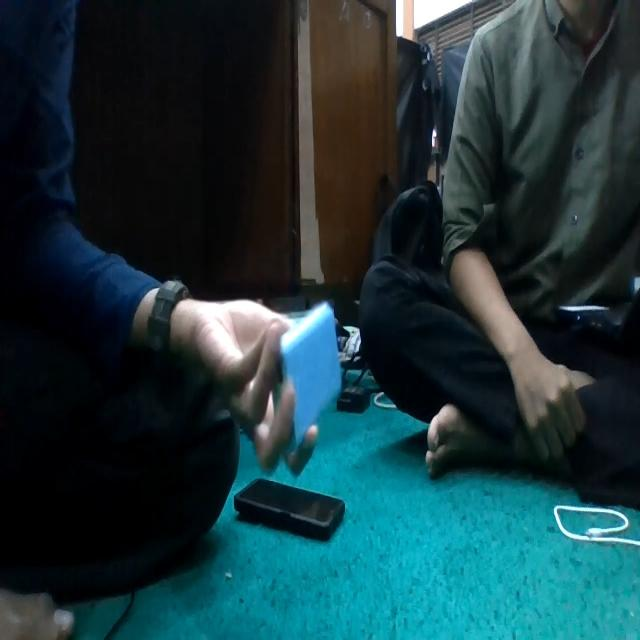Powerbank: (280, 301, 341, 448)
